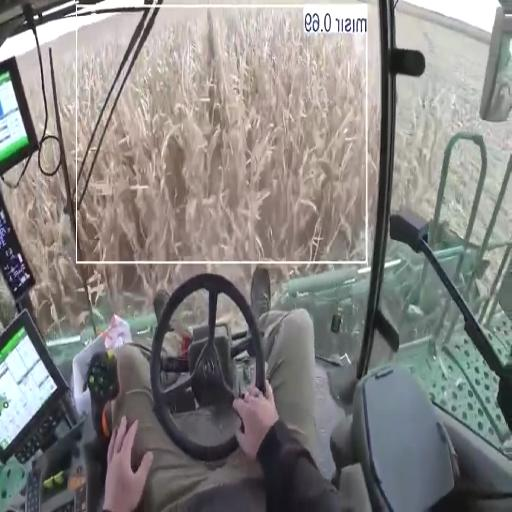misir: (80, 10, 366, 259), (77, 15, 138, 157)
